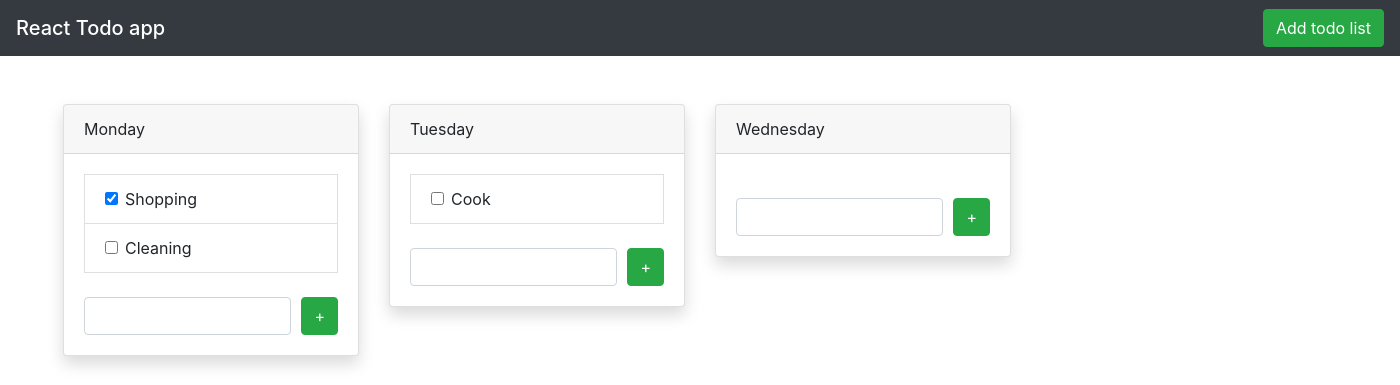
Scenario: Todos component test › Add todo list
This screenshot has width=1400, height=385.
Click the button "Add todo list" at (1324,28), box [1263,9,1384,47]
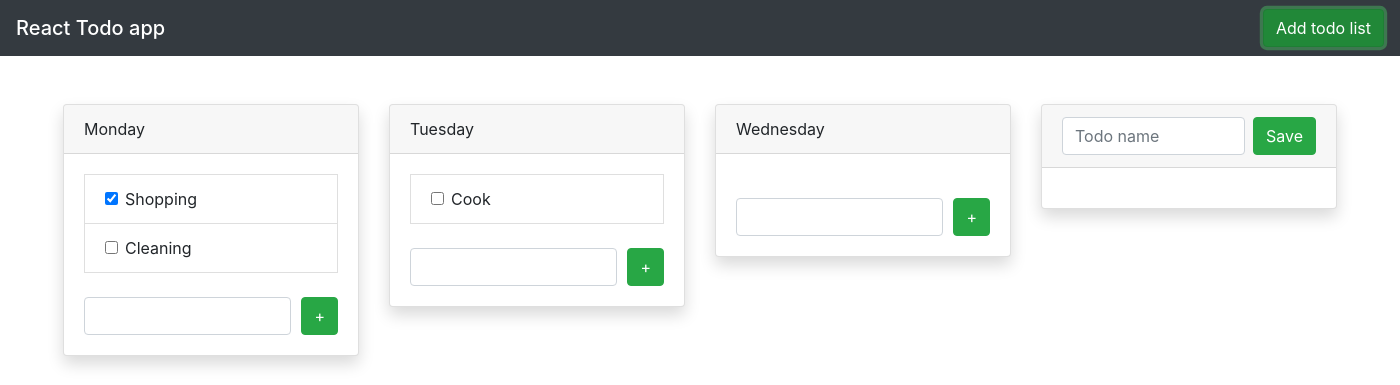
Type "Thursday" into the field labelled "Todo name" at (1154,136), box [1062,117,1245,155]
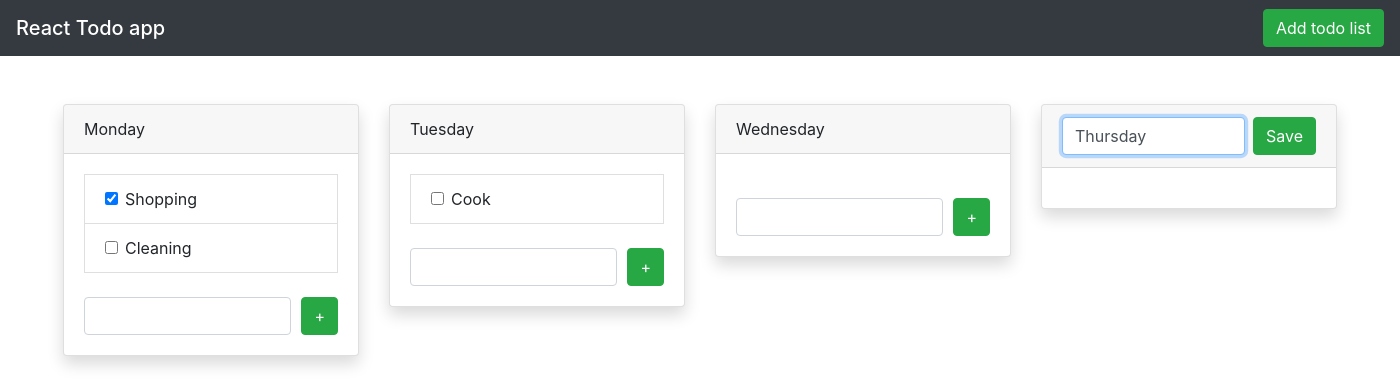
Click the button "Save" at (1285,136), box [1253,117,1316,155]
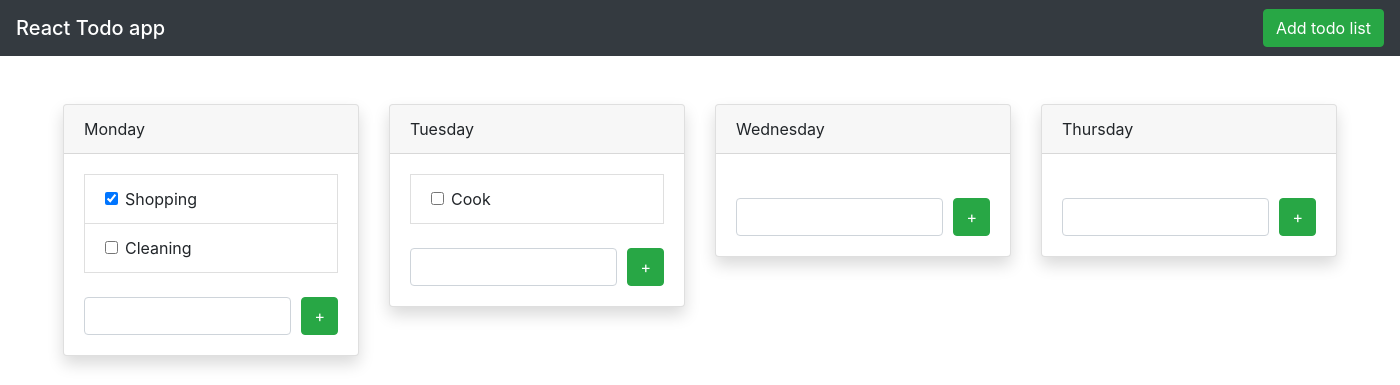
Result: the text "Thursday" is shown at [1062,119,1133,139]
